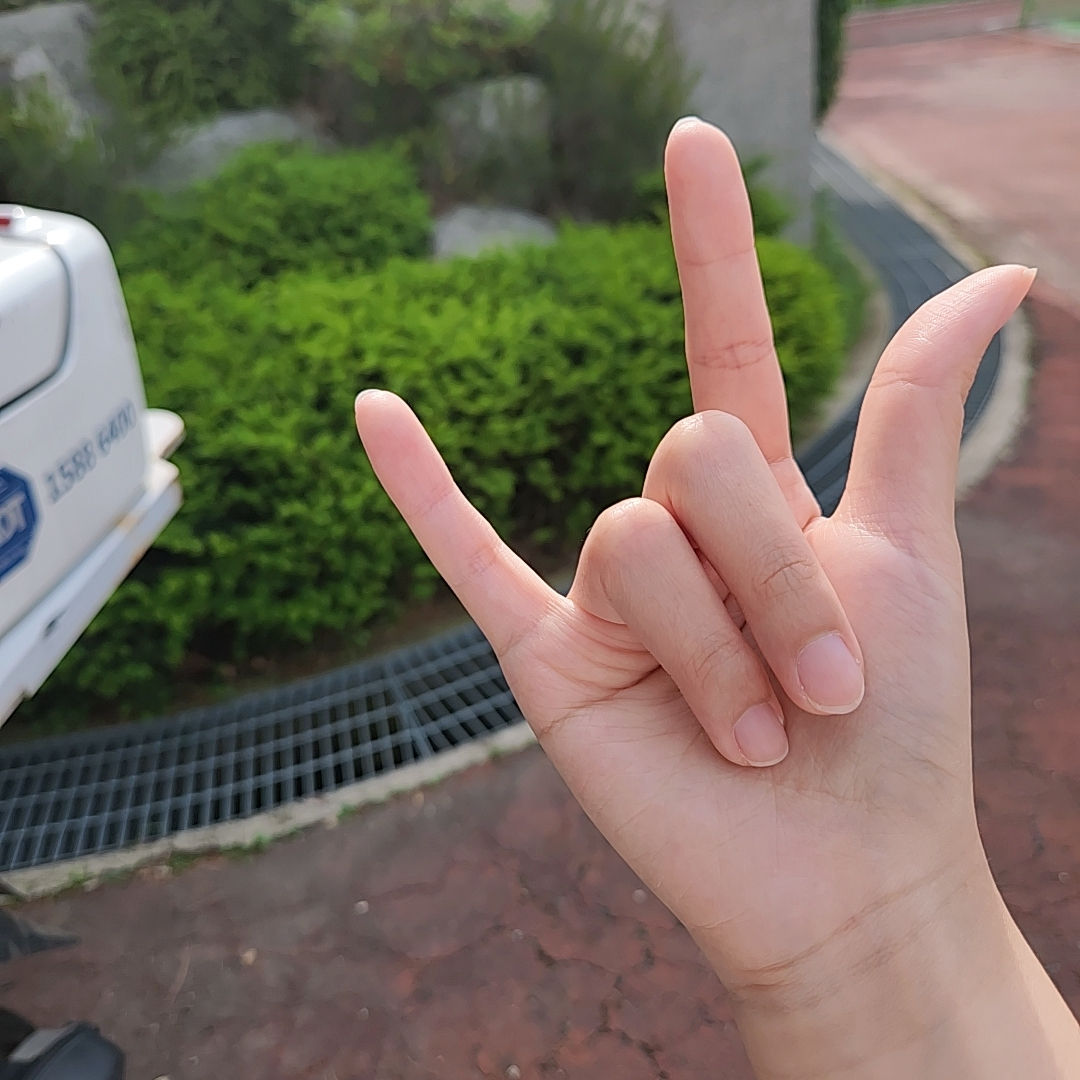iloveyou: (350, 112, 1036, 923)
